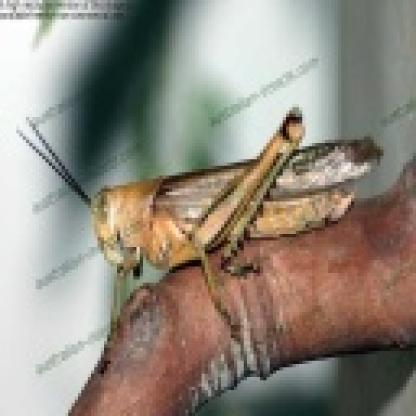grasshopper: (17, 104, 386, 324)
